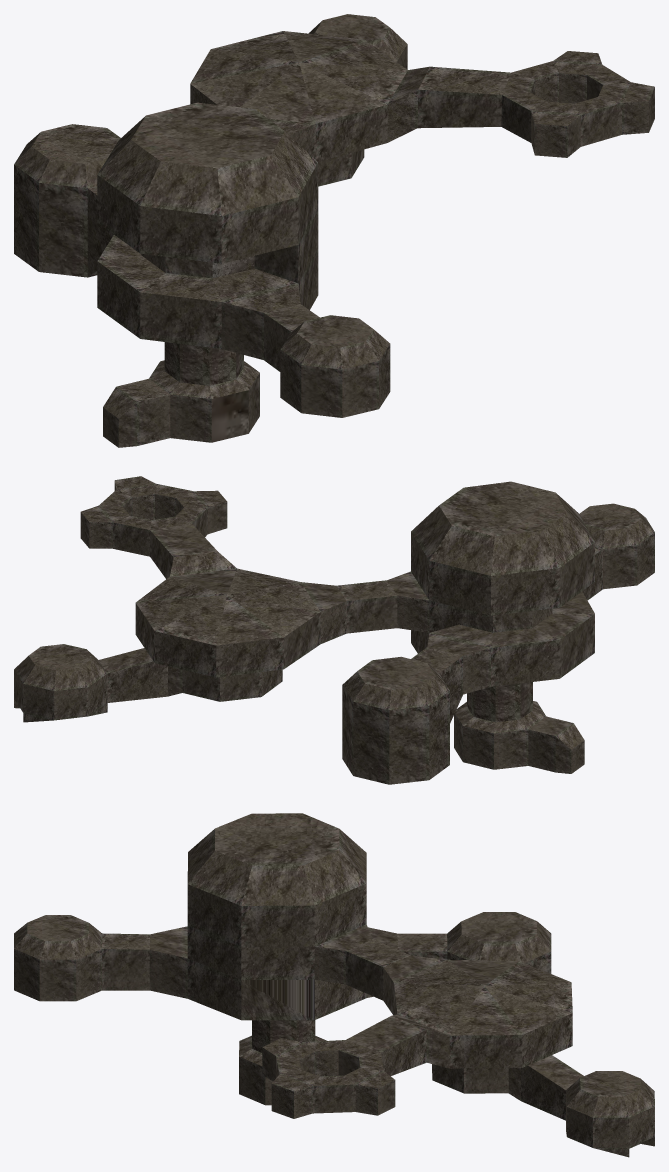
Rendered from level.fbx.
The picture shows the model from 3 angles, top to bottom: view 1: azimuth 30°, elevation 25°; view 2: azimuth 150°, elevation 25°; view 3: azimuth 270°, elevation 25°; orthographic projection. The views are drawn at different scales.
Visible parts, largest first — view 1: Cylinder; view 2: Cylinder; view 3: Cylinder.
Part boxes in pixels (left/top/right/bottom): Cylinder: left=14, top=14, right=654, bottom=447; Cylinder: left=14, top=476, right=654, bottom=784; Cylinder: left=14, top=813, right=654, bottom=1157.
Bounding box in the file's own units: 1148 × 572 × 1344.
